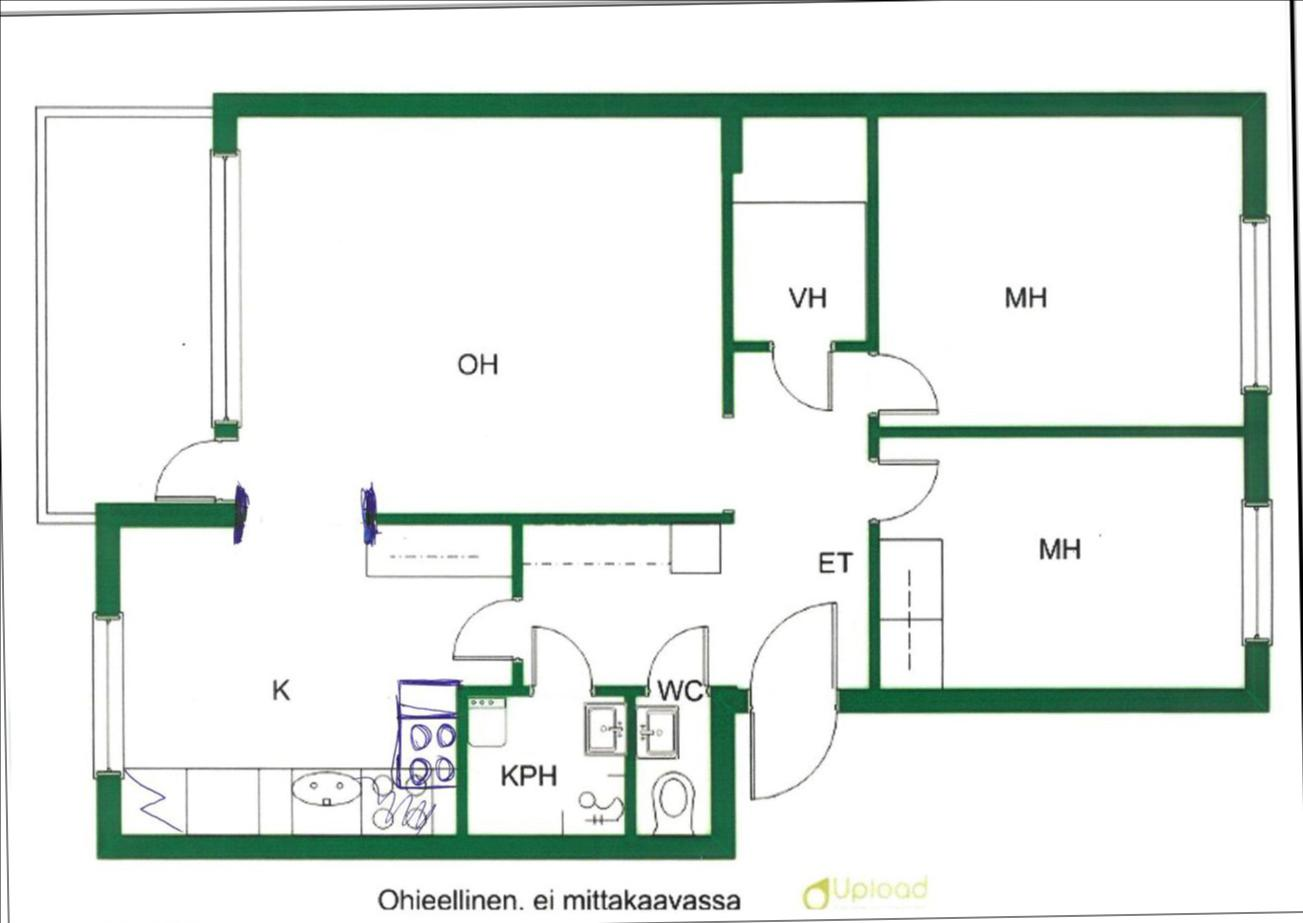bathroom: (629, 686, 716, 838)
door: (742, 596, 842, 705), (744, 695, 840, 806), (142, 432, 237, 508), (862, 452, 943, 530), (860, 346, 942, 422), (639, 615, 717, 692), (522, 620, 600, 697), (447, 594, 527, 668), (767, 338, 841, 418)
perimeter: (95, 92, 1265, 860)
window: (196, 143, 247, 434), (1234, 204, 1279, 406), (82, 608, 132, 785), (1230, 490, 1280, 656)
